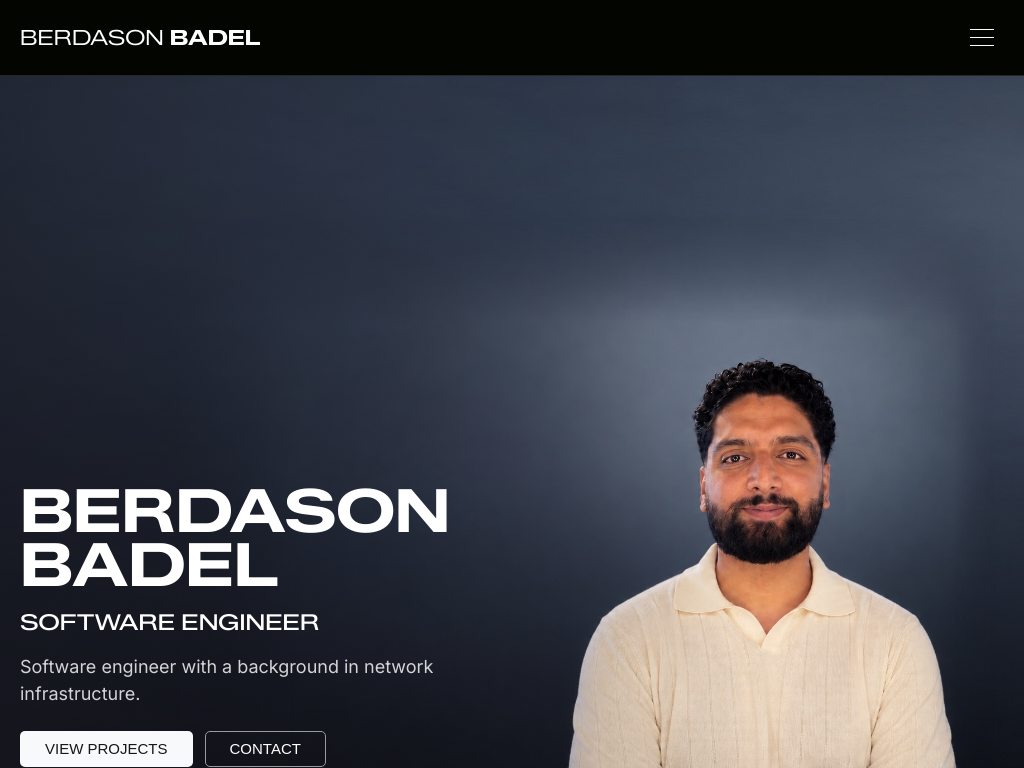
it: mobile navigation can be dismissed with Escape
Click the button named "toggle navigation menu".
click(982, 38)  # box [960,16,1004,60]
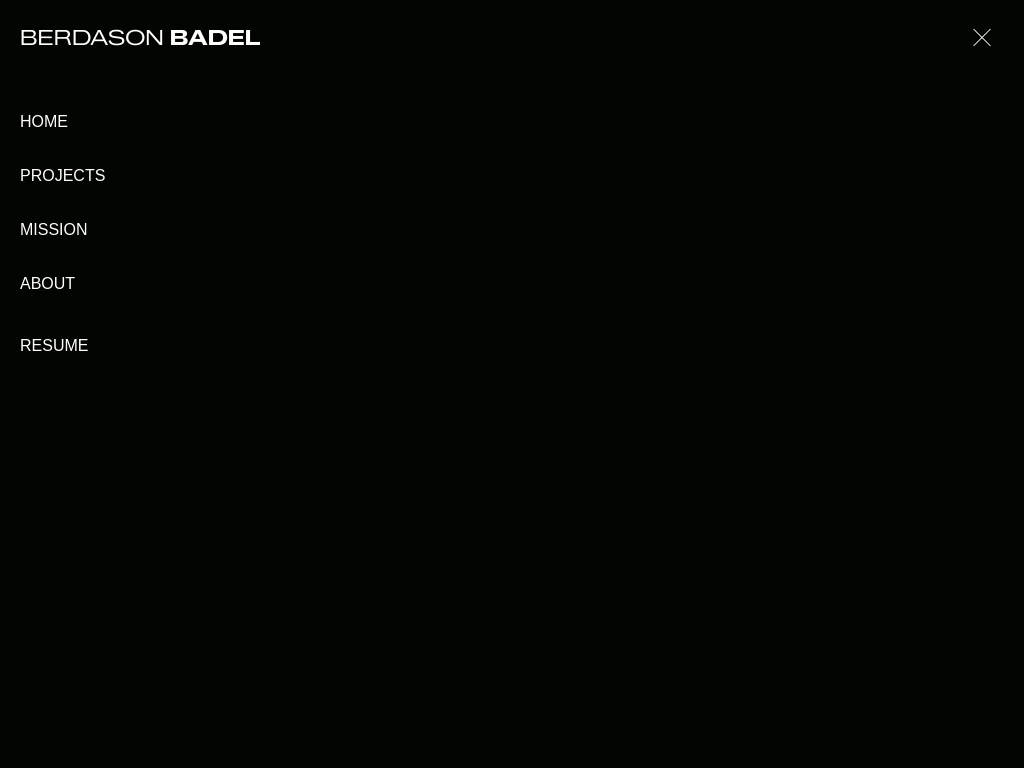
Now the button named "toggle navigation menu" is expanded, box [960,16,1004,60]
Press Escape
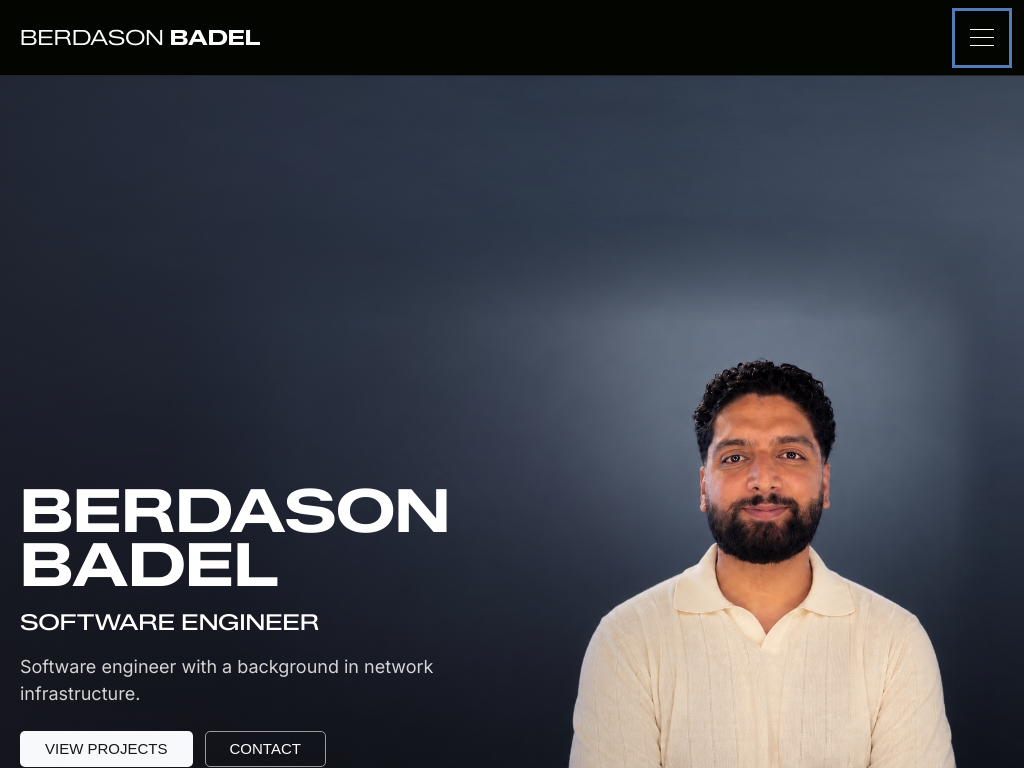
Now the button named "toggle navigation menu" is collapsed, box [960,16,1004,60]
